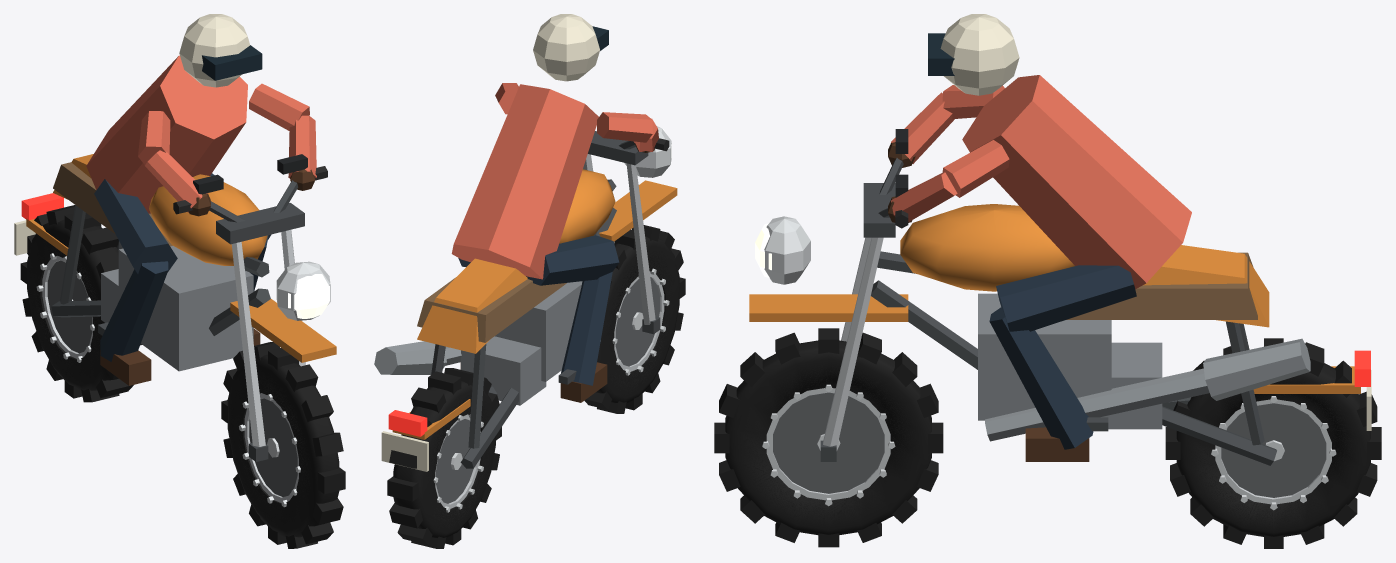
File: fern-250.glb
3 renders of one model, left to right at view 1: azimuth 30°, elevation 25°; view 2: azimuth 150°, elevation 25°; view 3: azimuth 270°, elevation 25°, orthographic. The views are drawn at different scales.
Parts seen in each view (by area): view 1: rider, frame, wheel_F, wheel_R, fork, headlight, taillight, plate_R; view 2: rider, frame, wheel_R, wheel_F, fork, plate_R, headlight, taillight; view 3: rider, frame, wheel_F, wheel_R, fork, headlight.
Boxes of the visible parts, x1,y1,x2,y2 form: rider: (86, 14, 316, 385); frame: (26, 154, 270, 371); wheel_F: (221, 342, 345, 548); wheel_R: (20, 205, 142, 402); fork: (173, 154, 336, 461); headlight: (276, 261, 330, 320); taillight: (21, 193, 63, 220); plate_R: (14, 220, 35, 255); rider: (451, 14, 658, 402); frame: (374, 169, 616, 468); wheel_R: (387, 368, 501, 548); wheel_F: (584, 225, 685, 413); fork: (583, 131, 677, 334); plate_R: (381, 431, 428, 471); headlight: (624, 126, 671, 177); taillight: (388, 410, 427, 436); rider: (888, 14, 1191, 461); frame: (871, 204, 1360, 465); wheel_F: (714, 328, 943, 547); wheel_R: (1165, 338, 1381, 548); fork: (749, 129, 908, 461); headlight: (755, 216, 810, 284).
Bounding box in the file's own units: 0.6934 × 1.82 × 2.1.
